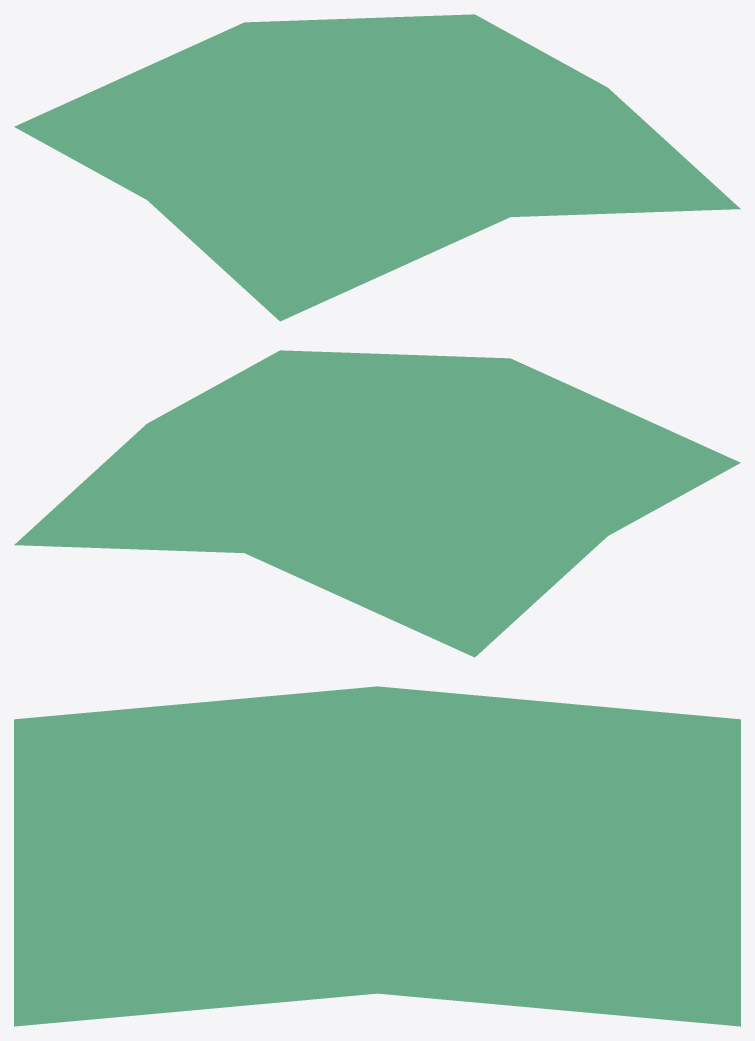
File: geonest_terrain.gltf
3 views of the same model, one above another, from view 1: azimuth 30°, elevation 25°; view 2: azimuth 150°, elevation 25°; view 3: azimuth 270°, elevation 25° (orthographic). The views are drawn at different scales.
Parts seen in each view (by area): view 1: GeoNestTerrain; view 2: GeoNestTerrain; view 3: GeoNestTerrain.
Boxes of the visible parts, x1=… form: GeoNestTerrain: x1=14, y1=14, x2=740, y2=321; GeoNestTerrain: x1=14, y1=350, x2=740, y2=657; GeoNestTerrain: x1=14, y1=686, x2=740, y2=1026.
Bounding box in the file's own units: 20 × 5 × 20.
